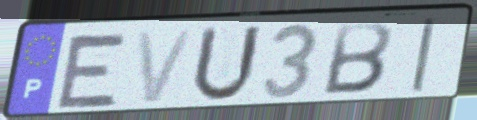3: (260, 21, 323, 102)
B: (319, 20, 395, 97)
E: (54, 32, 132, 111)
I: (408, 15, 440, 97)
U: (188, 23, 266, 106)
V: (134, 27, 198, 107)
